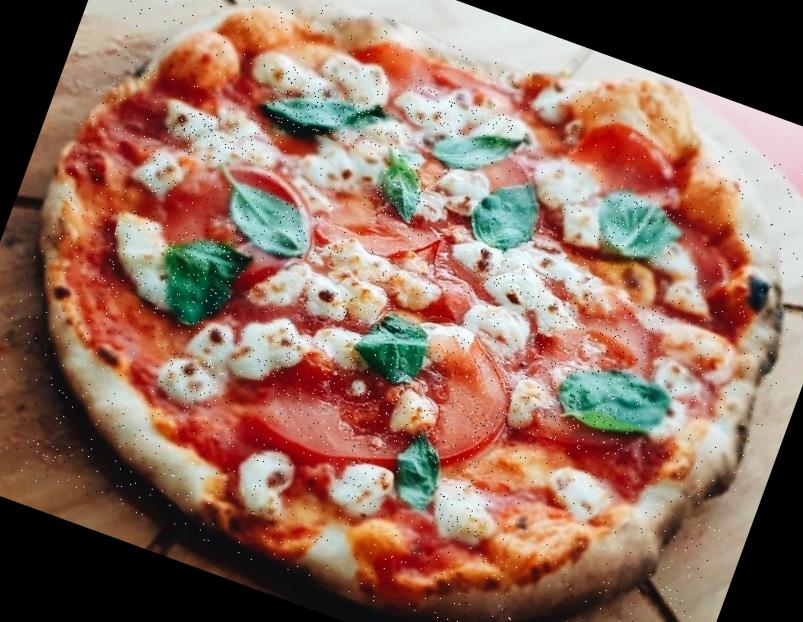Basil: (262, 70, 388, 156), (154, 227, 252, 337), (561, 356, 670, 435), (220, 182, 320, 264), (588, 189, 684, 272), (430, 110, 524, 185), (469, 172, 546, 257), (360, 313, 437, 390), (369, 152, 433, 224), (393, 440, 442, 504)
Cheese: (248, 250, 384, 346), (402, 80, 517, 156), (96, 208, 182, 304), (526, 154, 612, 247), (224, 311, 306, 392), (298, 134, 387, 202), (467, 248, 559, 312), (160, 102, 241, 169), (429, 474, 496, 541), (156, 349, 228, 409), (235, 451, 292, 521), (326, 460, 390, 518), (219, 111, 282, 166), (327, 59, 393, 111), (354, 114, 418, 166), (500, 376, 556, 434), (131, 150, 184, 199), (552, 472, 606, 520), (260, 56, 328, 94), (190, 319, 239, 368), (478, 314, 520, 358)
Pizza: (0, 0, 803, 622)
Tomatoes: (251, 278, 521, 500), (503, 273, 676, 468)
